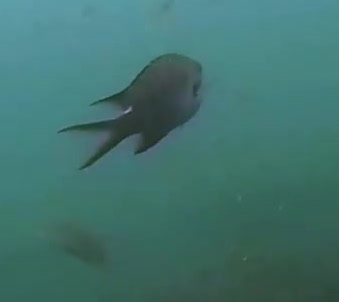smallfish: (69, 42, 206, 170)
